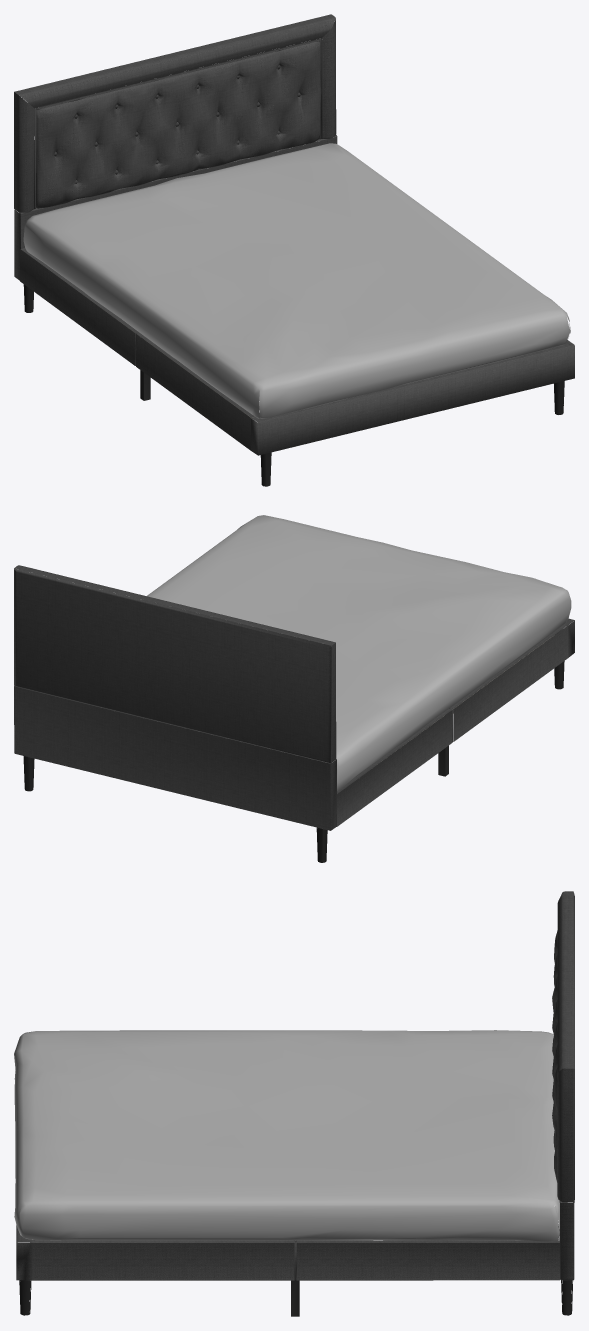
File: bed-king.glb
The picture shows the model from 3 angles, top to bottom: view 1: azimuth 30°, elevation 25°; view 2: azimuth 150°, elevation 25°; view 3: azimuth 270°, elevation 25°; orthographic projection. The views are drawn at different scales.
Parts seen in each view (by area): view 1: Object_5; view 2: Object_5; view 3: Object_5.
Boxes of the visible parts, box(x1,y1,x2,y2) form: Object_5: box(14, 14, 574, 486); Object_5: box(14, 515, 574, 862); Object_5: box(14, 891, 574, 1316).
Size of the model in its own units: 0.9057 by 0.5999 by 1.21.
1 material, 1 textured.
